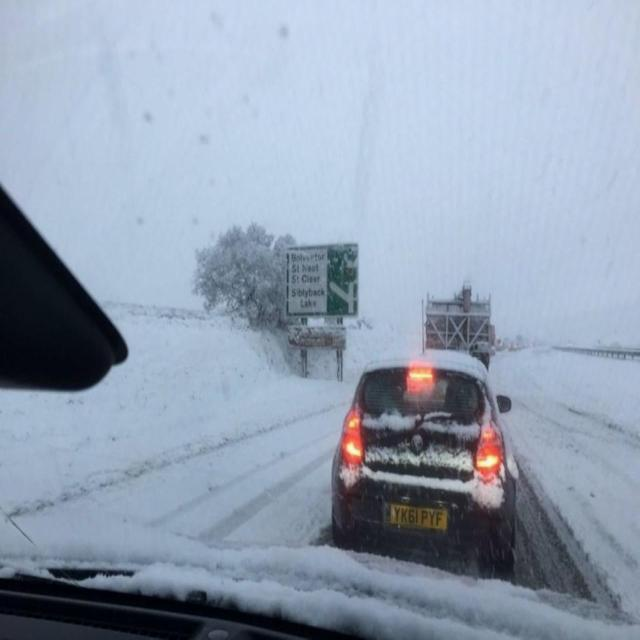Car: (340, 364, 498, 558)
Truck: (426, 292, 498, 352)
